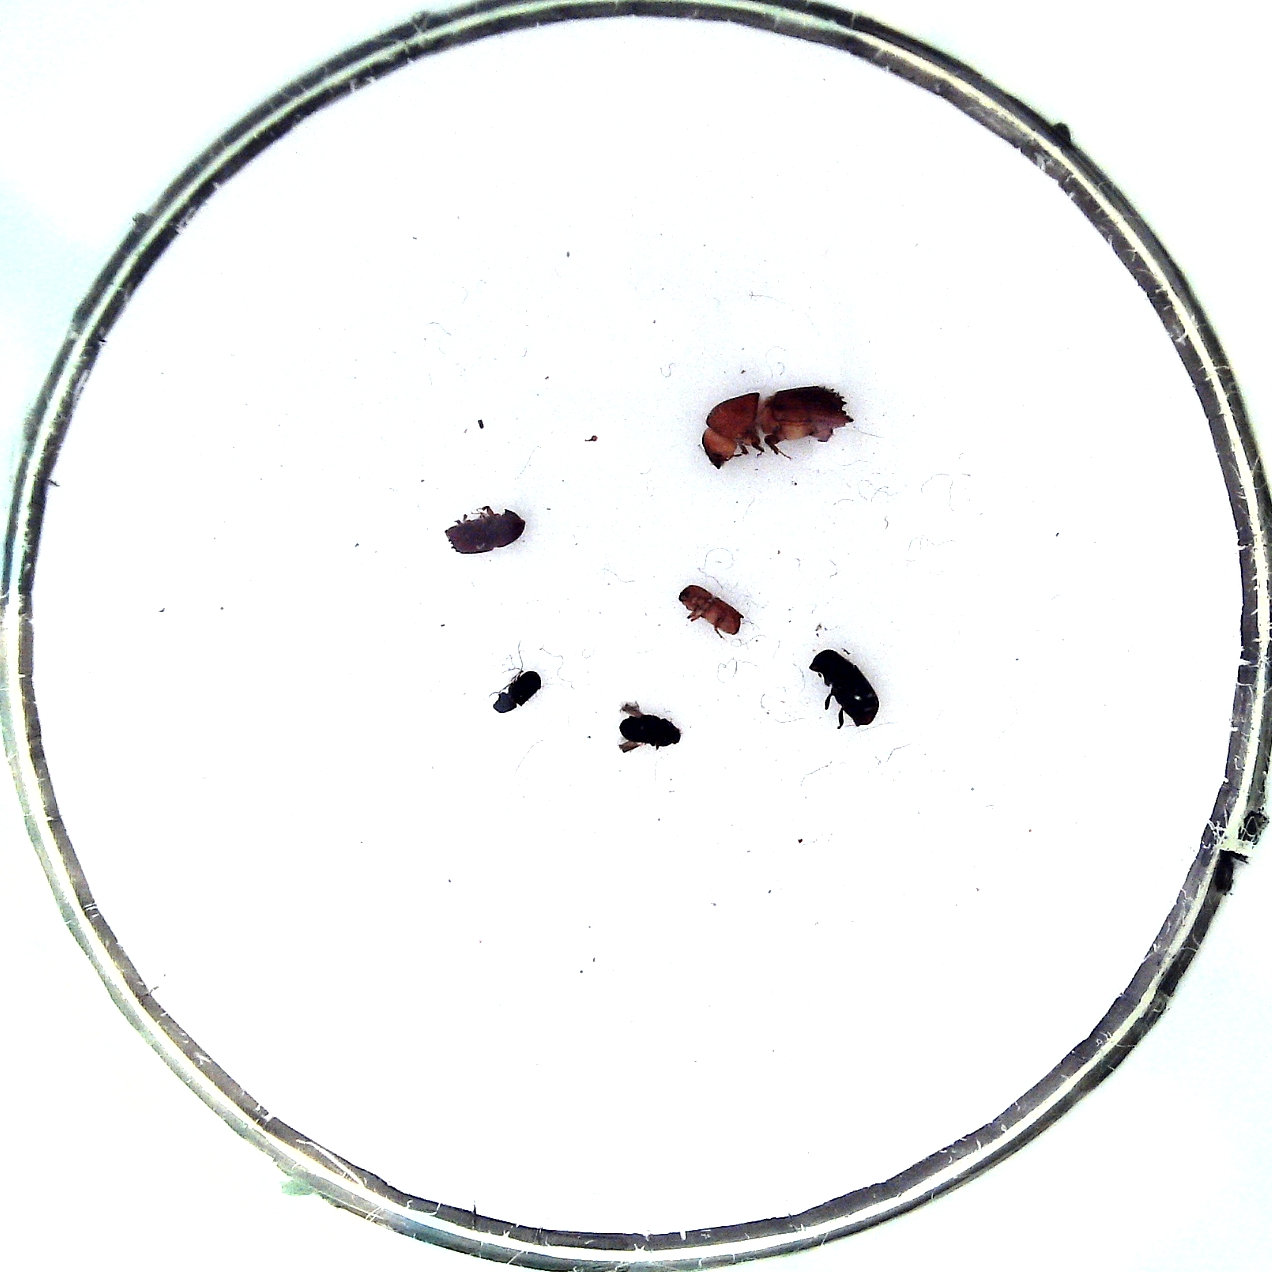Boerner: (701, 386, 856, 469)
acuminatus: (620, 714, 681, 749), (493, 670, 540, 712)
armandi: (808, 649, 879, 727)
coleoptera: (679, 584, 744, 636)
linnaeus: (444, 508, 527, 554)
